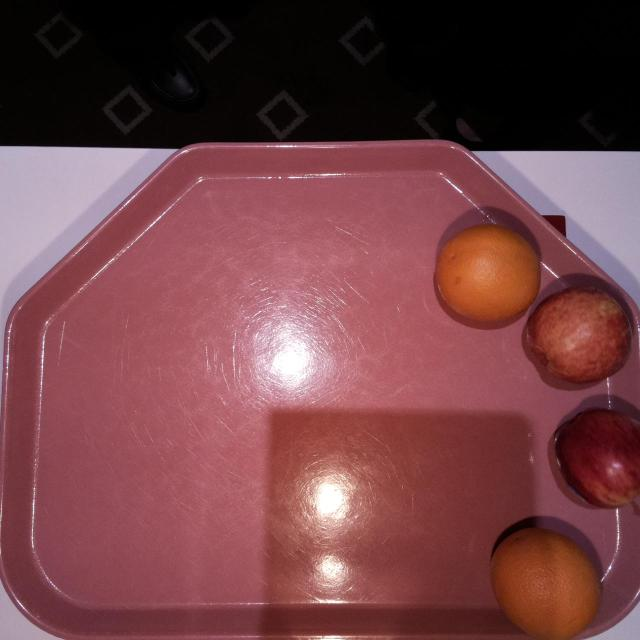Apple: (521, 286, 635, 384), (552, 407, 640, 511)
Orange: (489, 525, 603, 640), (433, 224, 542, 324)
